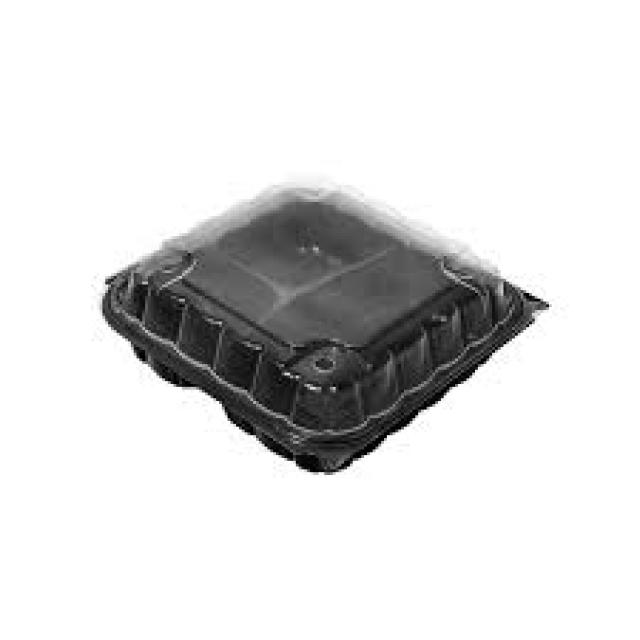disposable: (117, 181, 551, 484)
